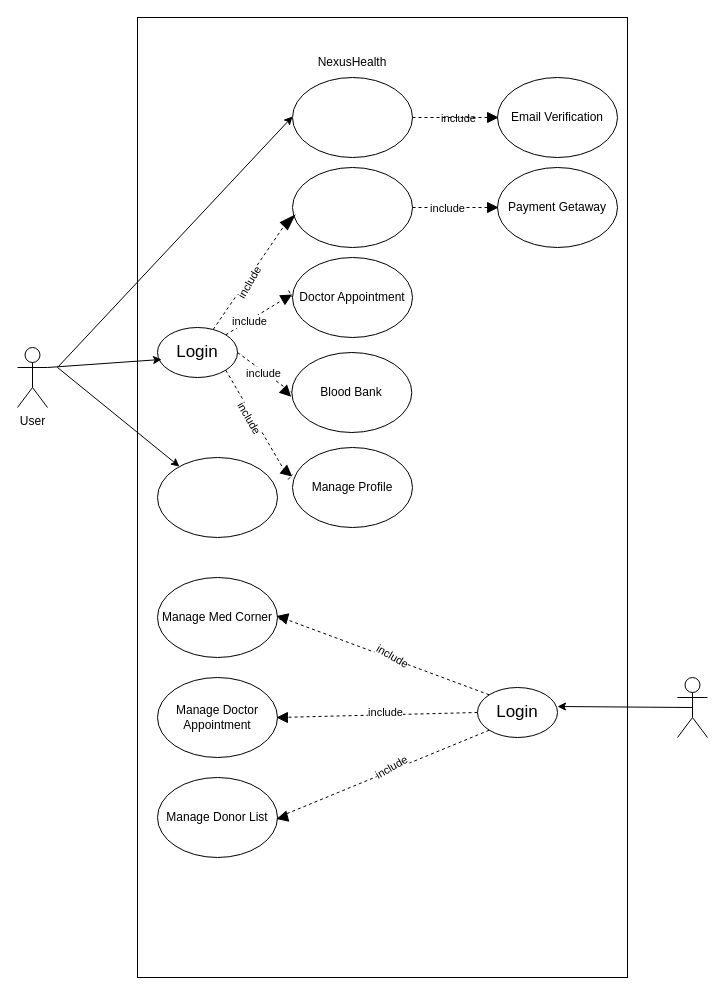
This 727x995 diagram has some shape labels left out. The shapes that lost their labels are listed below. From the top down, each one's centre as x and y in pixels, then its label:
At point (352, 117): "Registration".
At point (352, 207): "Med Corner".
At point (217, 497): "Self-Diagnosis".
At point (692, 707): "Admin".
